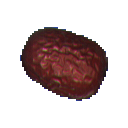gd: (14, 21, 123, 120)
